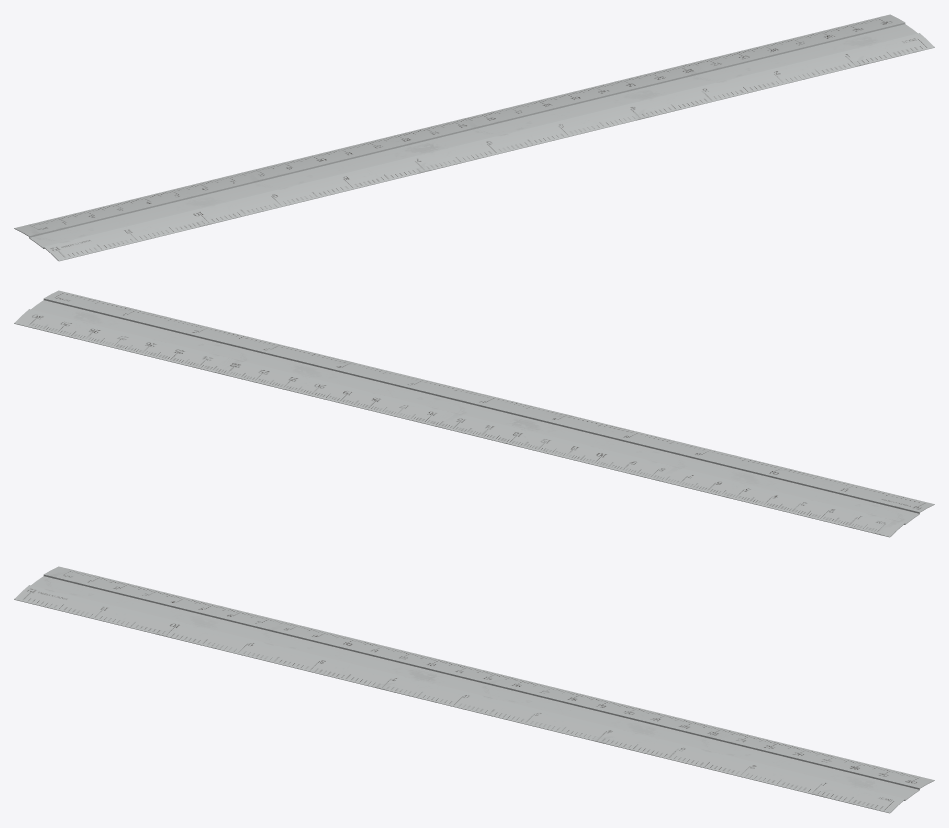
The model's file is lineyka.fbx.
3 renders of one model, top to bottom at view 1: azimuth 30°, elevation 25°; view 2: azimuth 150°, elevation 25°; view 3: azimuth 330°, elevation 25°, orthographic.
Visible parts, largest first — view 1: lineyka; view 2: lineyka; view 3: lineyka.
Boxes of the visible parts, box(x1,y1,x2,y2) form: lineyka: box(14, 14, 934, 261); lineyka: box(14, 290, 934, 537); lineyka: box(14, 566, 934, 813).
Bounding box in the file's own units: 401 × 1.56 × 35.6.
